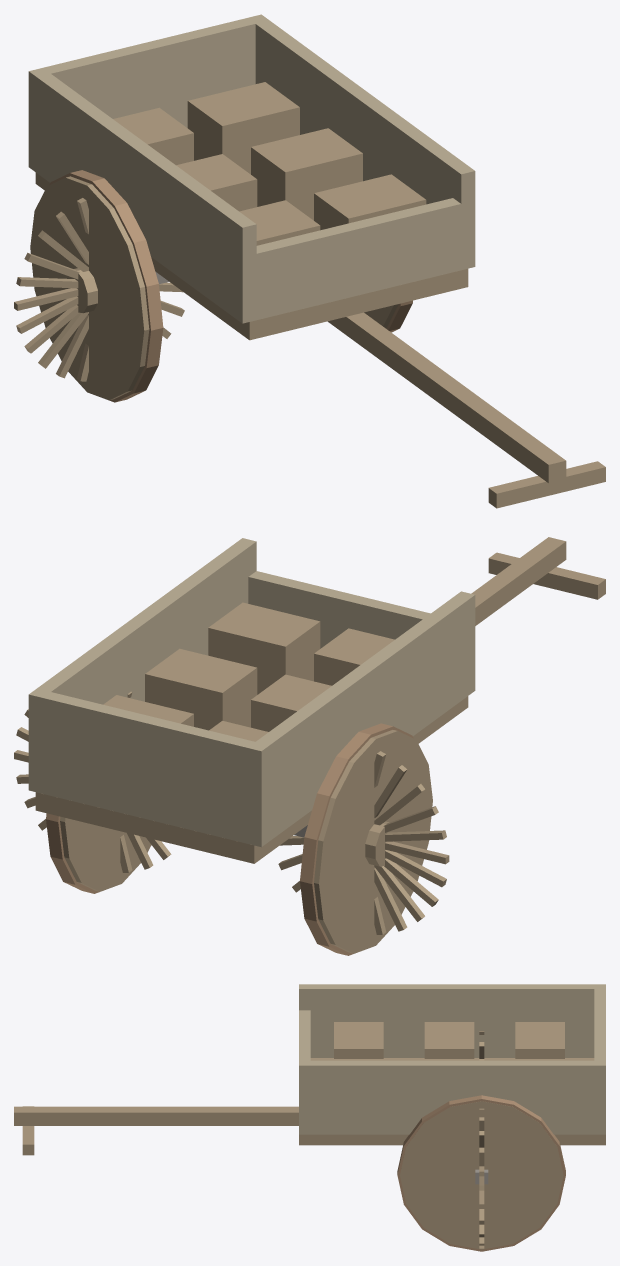
Rendered from trench-line-1917-ration-cart-0b98ccc8__24129.glb.
The picture shows the model from 3 angles, top to bottom: view 1: azimuth 30°, elevation 25°; view 2: azimuth 150°, elevation 25°; view 3: azimuth 270°, elevation 25°; orthographic projection. The views are drawn at different scales.
Parts seen in each view (by area): view 1: ration-cart; view 2: ration-cart; view 3: ration-cart.
Part boxes in pixels (<box>): ration-cart: <box>14,14,605,508</box>; ration-cart: <box>14,537,605,955</box>; ration-cart: <box>14,984,605,1251</box>.
Bounding box in the file's own units: 2.45 × 1.38 × 4.05.
